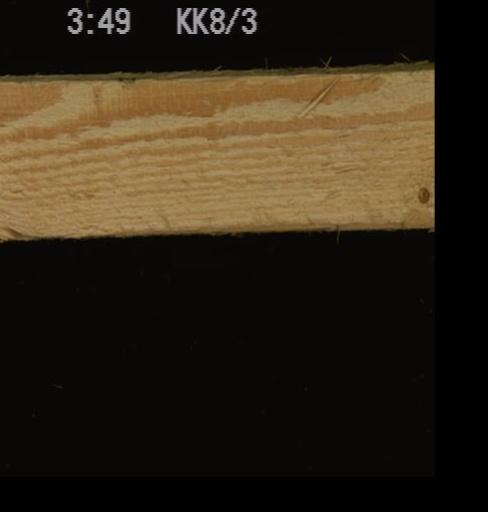dry_knot: (414, 183, 431, 205)
wave: (201, 219, 433, 235)
